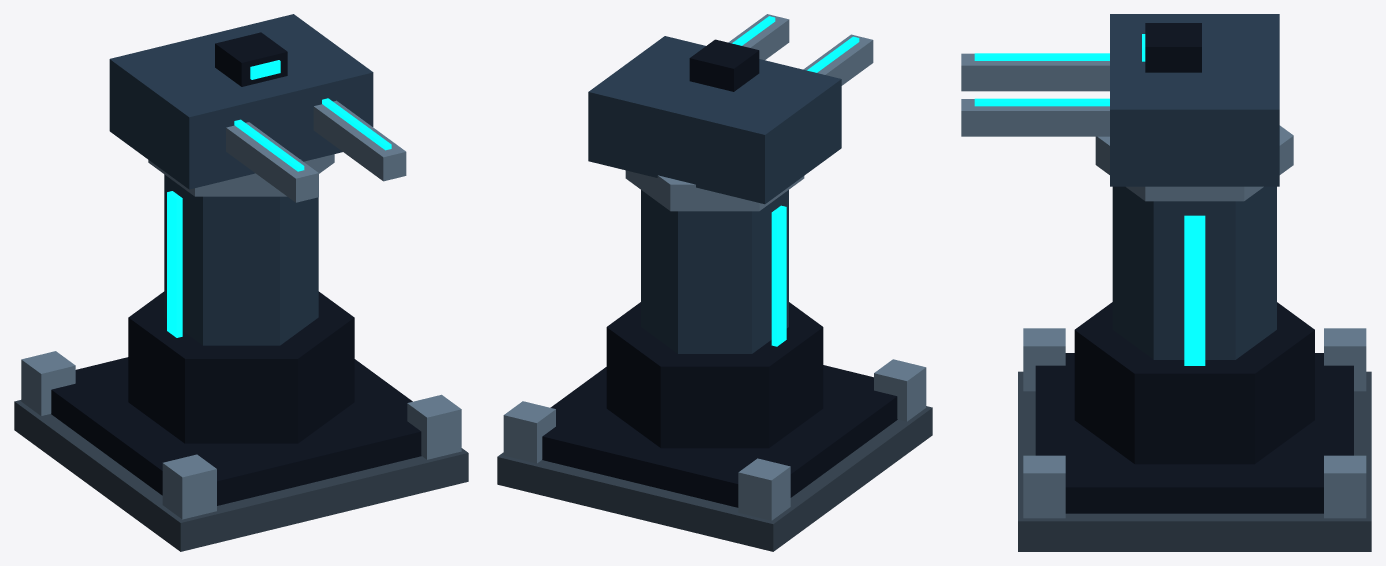
The model's file is tower_low.glb.
The picture shows the model from 3 angles, left to right: view 1: azimuth 30°, elevation 25°; view 2: azimuth 150°, elevation 25°; view 3: azimuth 270°, elevation 25°; orthographic projection. The views are drawn at different scales.
Parts seen in each view (by area): view 1: Gun housing, Tower pedestal, Undercarriage, Armored column, Foundation, Twin cannon.001, Twin cannon, Corner lock.001, Corner lock.003, Targeting sensor, Corner lock, Column signal (+3 smaller); view 2: Gun housing, Tower pedestal, Undercarriage, Armored column, Foundation, Turret bearing, Corner lock, Targeting sensor, Corner lock.002, Corner lock.001, Column signal, Twin cannon (+1 smaller); view 3: Tower pedestal, Gun housing, Undercarriage, Armored column, Foundation, Twin cannon, Twin cannon.001, Column signal.001, Turret bearing, Targeting sensor, Corner lock.003, Corner lock.002 (+4 smaller).
Part boxes in pixels (x1,y1,x2,y2): Gun housing: [109, 14, 373, 189]; Tower pedestal: [128, 291, 354, 443]; Undercarriage: [51, 357, 421, 505]; Armored column: [164, 174, 318, 345]; Foundation: [14, 400, 468, 551]; Twin cannon.001: [313, 100, 406, 181]; Twin cannon: [226, 122, 318, 202]; Corner lock.001: [162, 454, 216, 519]; Corner lock.003: [407, 394, 461, 459]; Targeting sensor: [215, 32, 287, 86]; Corner lock: [21, 351, 75, 415]; Column signal: [167, 191, 182, 337]; Gun housing: [588, 36, 841, 204]; Tower pedestal: [606, 302, 823, 448]; Undercarriage: [542, 365, 897, 507]; Armored column: [641, 190, 788, 353]; Foundation: [497, 406, 932, 551]; Turret bearing: [625, 170, 804, 211]; Corner lock: [738, 458, 790, 520]; Targeting sensor: [689, 39, 759, 91]; Corner lock.002: [503, 401, 555, 463]; Corner lock.001: [874, 359, 926, 421]; Column signal: [771, 205, 786, 346]; Twin cannon: [803, 34, 873, 85]; Tower pedestal: [1074, 302, 1314, 464]; Gun housing: [1110, 14, 1279, 186]; Undercarriage: [1035, 353, 1353, 513]; Armored column: [1112, 186, 1276, 359]; Foundation: [1018, 371, 1371, 551]; Twin cannon: [961, 53, 1109, 91]; Twin cannon.001: [961, 99, 1109, 136]; Column signal.001: [1184, 215, 1205, 365]; Turret bearing: [1095, 125, 1293, 201]; Targeting sensor: [1145, 23, 1201, 72]; Corner lock.003: [1023, 455, 1065, 518]; Corner lock.002: [1324, 455, 1366, 518].
Size of the model in its own units: 2.5 by 3.45 by 2.9.
